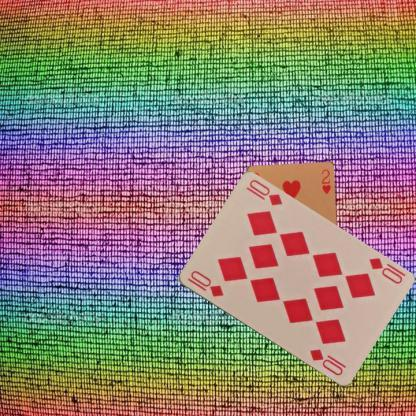10d: (366, 254, 404, 286), (187, 268, 225, 298)
